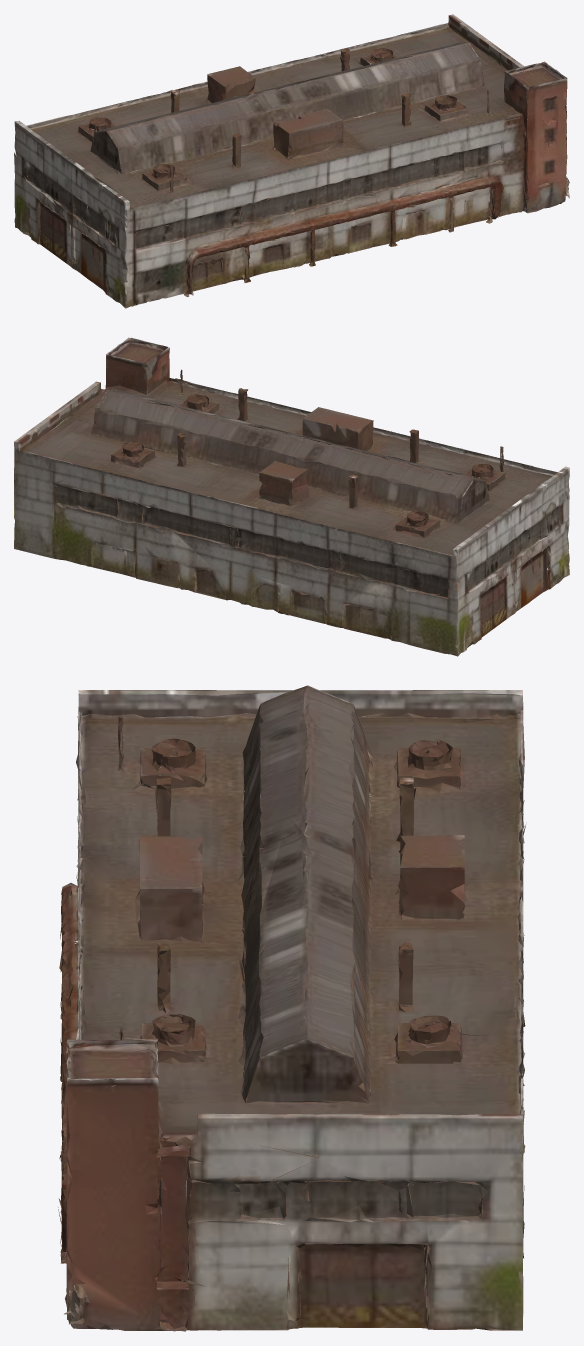
File: building_mech_workshop.glb
3 renders of one model, top to bottom at view 1: azimuth 30°, elevation 25°; view 2: azimuth 150°, elevation 25°; view 3: azimuth 270°, elevation 25°, orthographic. The views are drawn at different scales.
Parts seen in each view (by area): view 1: building_mech_workshop; view 2: building_mech_workshop; view 3: building_mech_workshop.
Boxes of the visible parts, <box> form: building_mech_workshop: <box>14,14,569,308</box>; building_mech_workshop: <box>14,337,569,656</box>; building_mech_workshop: <box>58,685,525,1331</box>.
Bounding box in the file's own units: 55 × 15.41 × 25.02.
1 material, 1 textured.
